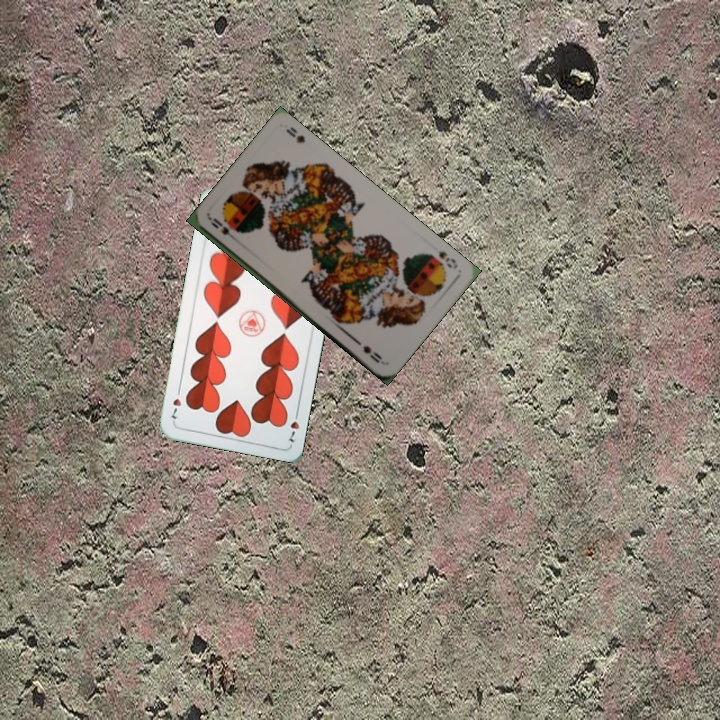H7: (285, 406, 302, 446)
SO: (206, 214, 241, 245), (434, 246, 460, 271)
